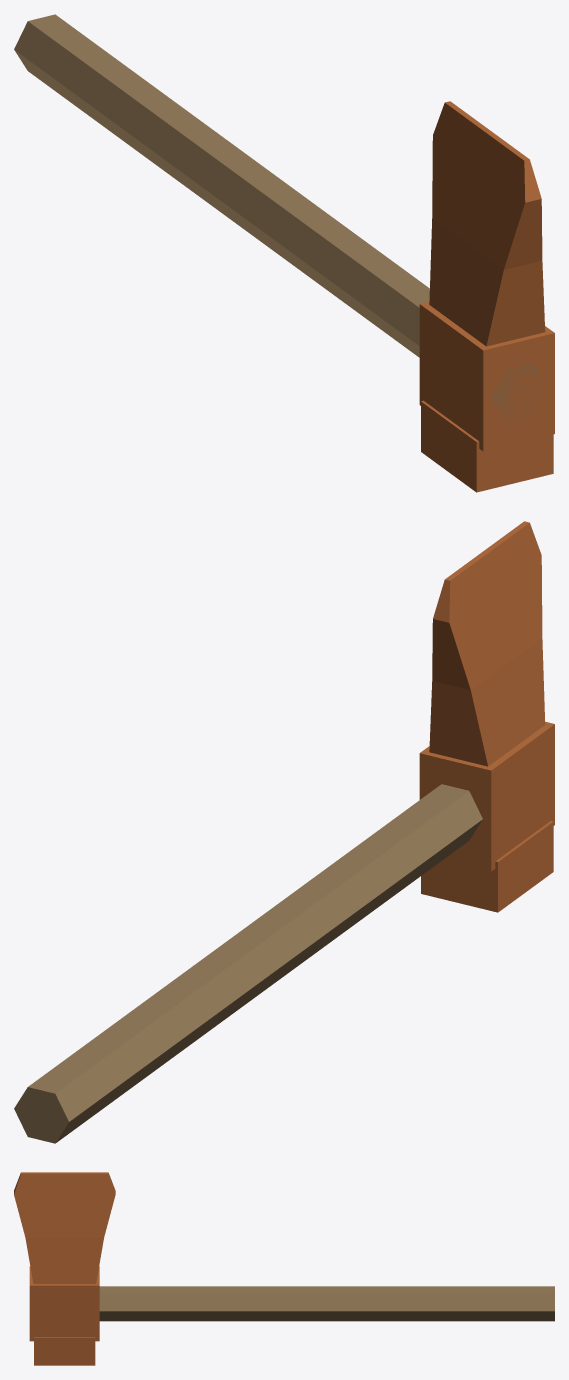
Rendered from Hatchet.fbx.
The picture shows the model from 3 angles, top to bottom: view 1: azimuth 30°, elevation 25°; view 2: azimuth 150°, elevation 25°; view 3: azimuth 270°, elevation 25°; orthographic projection. The views are drawn at different scales.
Visible parts, largest first — view 1: Hatchet; view 2: Hatchet; view 3: Hatchet.
Part boxes in pixels (bbox=[...]): Hatchet: bbox=[14, 14, 554, 492]; Hatchet: bbox=[14, 521, 554, 1143]; Hatchet: bbox=[14, 1172, 554, 1365].
Size of the model in its own units: 0.056 by 0.23 by 0.618.
